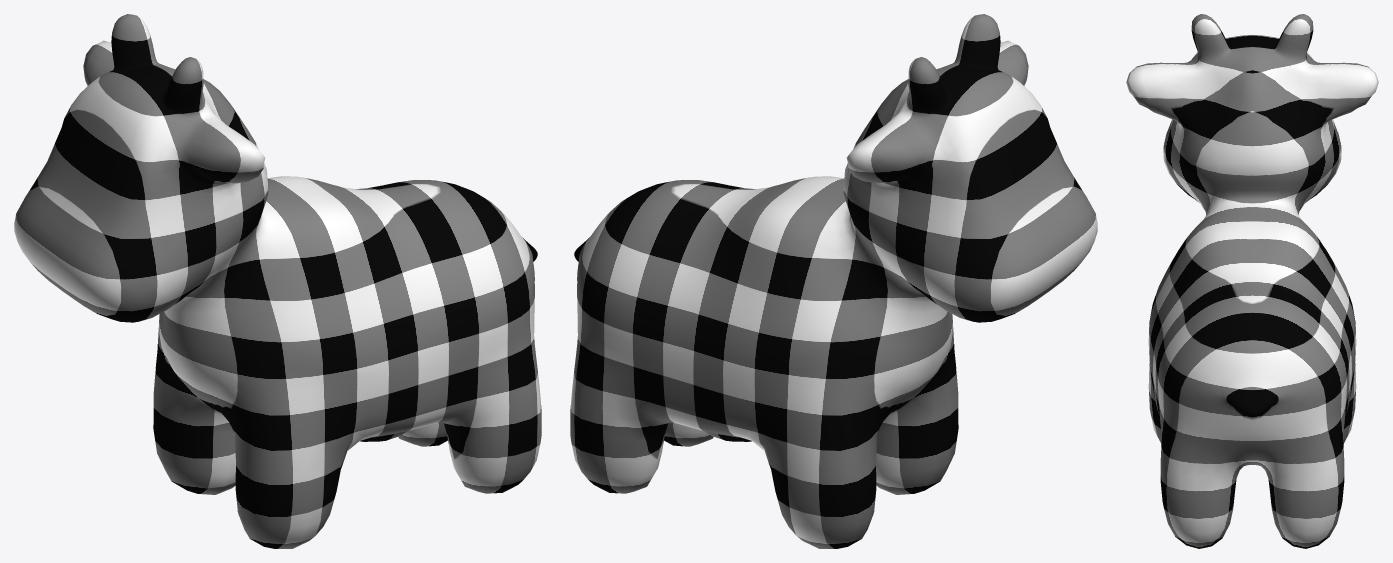
3 renders of one model, left to right at view 1: azimuth 30°, elevation 25°; view 2: azimuth 150°, elevation 25°; view 3: azimuth 270°, elevation 25°, orthographic. The views are drawn at different scales.
Visible parts, largest first — view 1: WoS_Boundary; view 2: WoS_Boundary; view 3: WoS_Boundary.
Boxes of the visible parts, box(x1,y1,x2,y2) form: WoS_Boundary: box(14, 14, 541, 548); WoS_Boundary: box(570, 14, 1097, 548); WoS_Boundary: box(1126, 14, 1378, 548).
Size of the model in its own units: 2.01 by 1.98 by 1.1.
2 materials, 2 textured.
